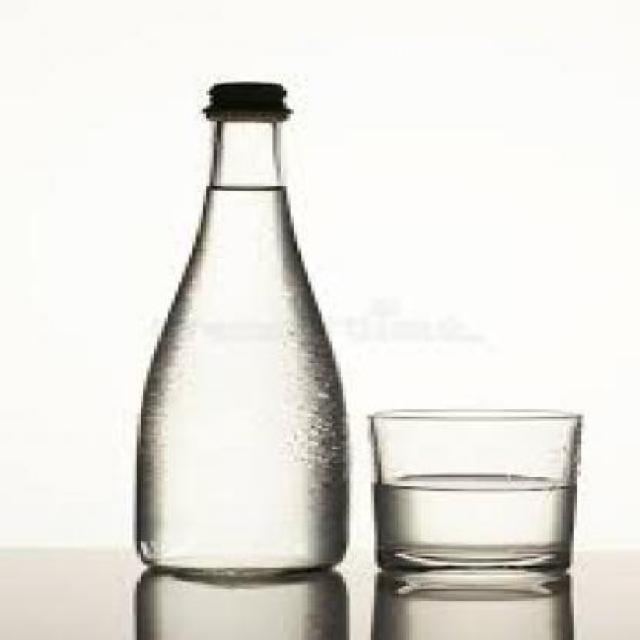kaca: (140, 114, 346, 580), (368, 408, 574, 572)
